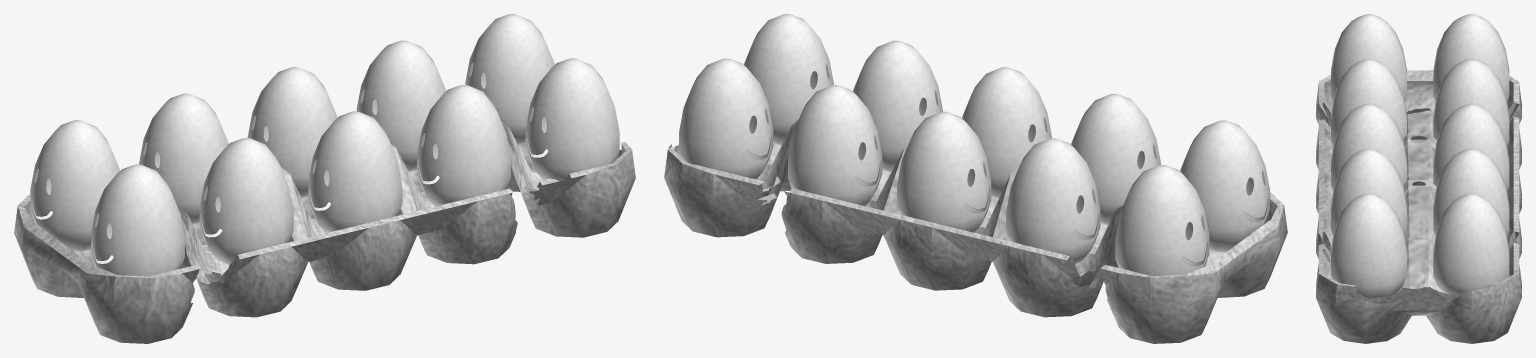
The model's file is egg_carton.fbx.
3 renders of one model, left to right at view 1: azimuth 30°, elevation 25°; view 2: azimuth 150°, elevation 25°; view 3: azimuth 270°, elevation 25°, orthographic. The views are drawn at different scales.
Visible parts, largest first — view 1: egg; view 2: egg; view 3: egg.
Boxes of the visible parts, x1,y1,x2,y2 form: egg: (14, 14, 635, 343); egg: (664, 14, 1287, 343); egg: (1316, 14, 1521, 343).
Bounding box in the file's own units: 510 × 369 × 1312.
